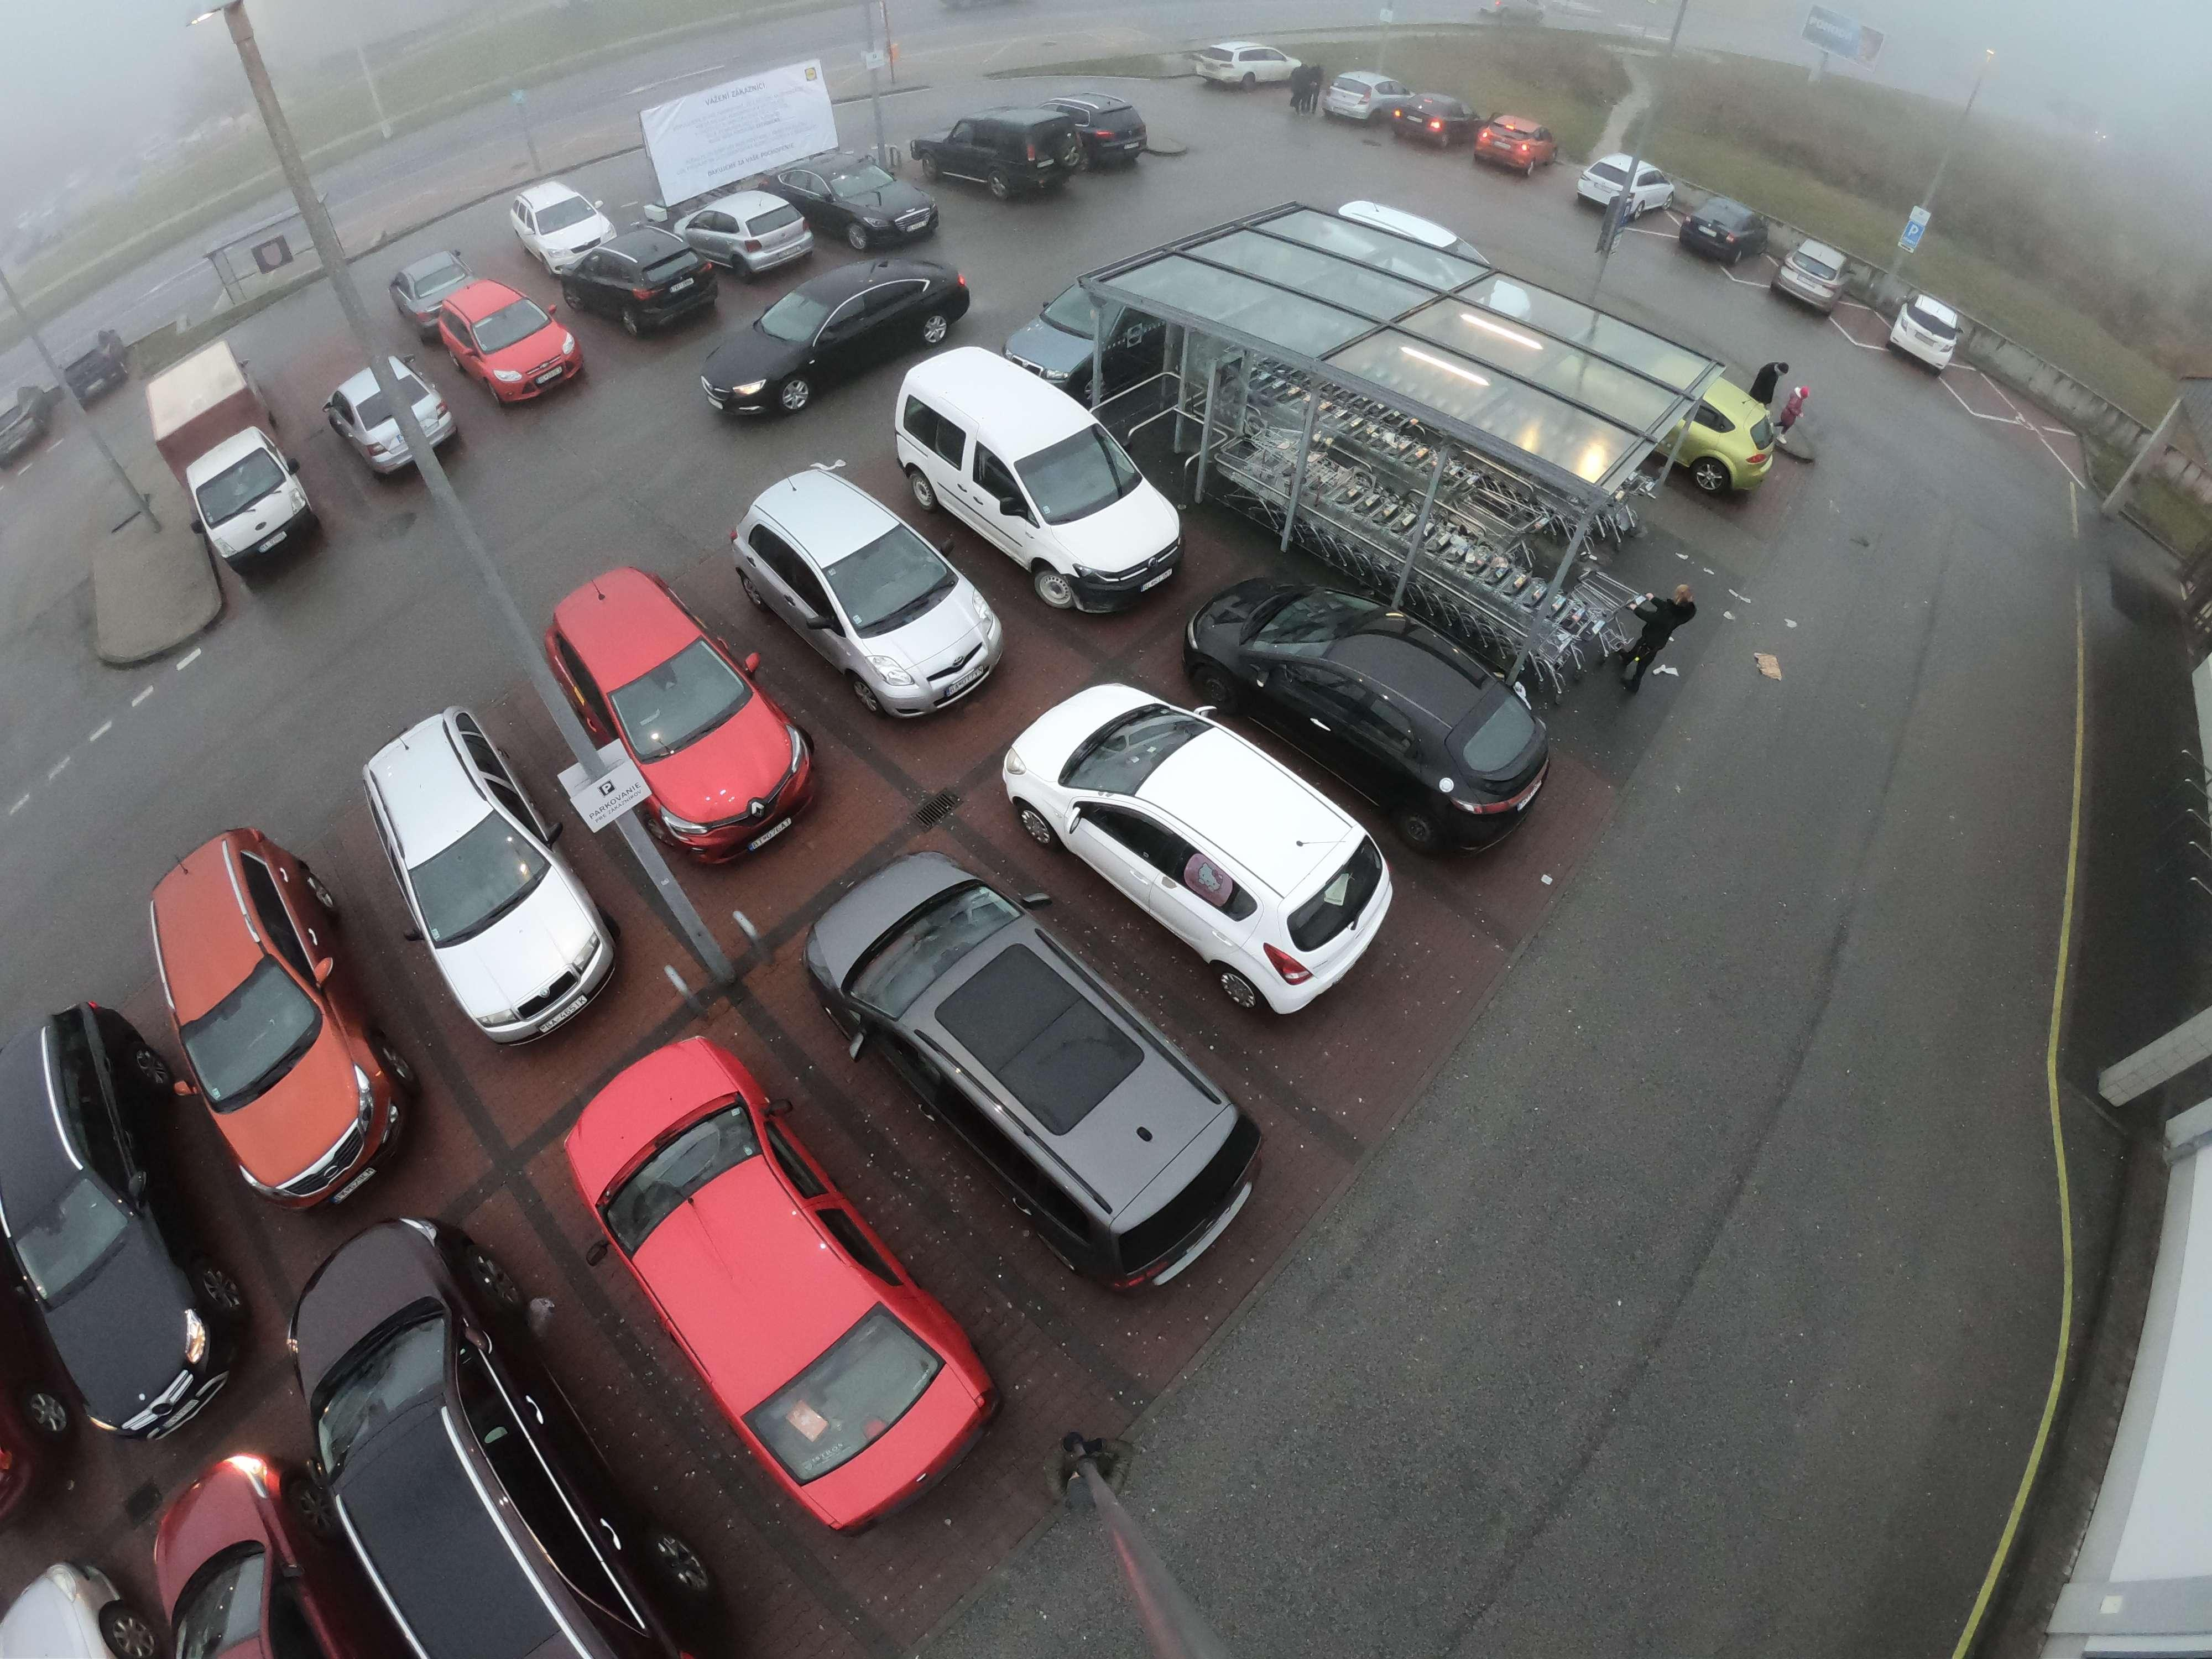empty: (526, 1042, 982, 1560), (815, 866, 1245, 1283), (300, 1220, 636, 1659), (1001, 694, 1392, 1014), (103, 812, 406, 1222), (317, 706, 618, 1054), (0, 972, 212, 1453), (524, 568, 812, 866), (1217, 587, 1529, 836), (888, 354, 1183, 617), (726, 474, 1000, 725), (122, 1457, 373, 1657), (702, 274, 948, 423), (415, 274, 590, 410), (172, 423, 320, 565), (545, 223, 719, 331), (916, 110, 1101, 207), (0, 1539, 143, 1656), (324, 354, 451, 476), (787, 150, 946, 247), (679, 181, 827, 275), (510, 179, 625, 272), (1562, 146, 1679, 227), (1881, 282, 1975, 376), (1766, 230, 1858, 319), (1672, 186, 1766, 270), (1195, 35, 1310, 96), (1306, 56, 1404, 127), (1461, 106, 1562, 174), (0, 375, 59, 469), (1379, 91, 1470, 148)
